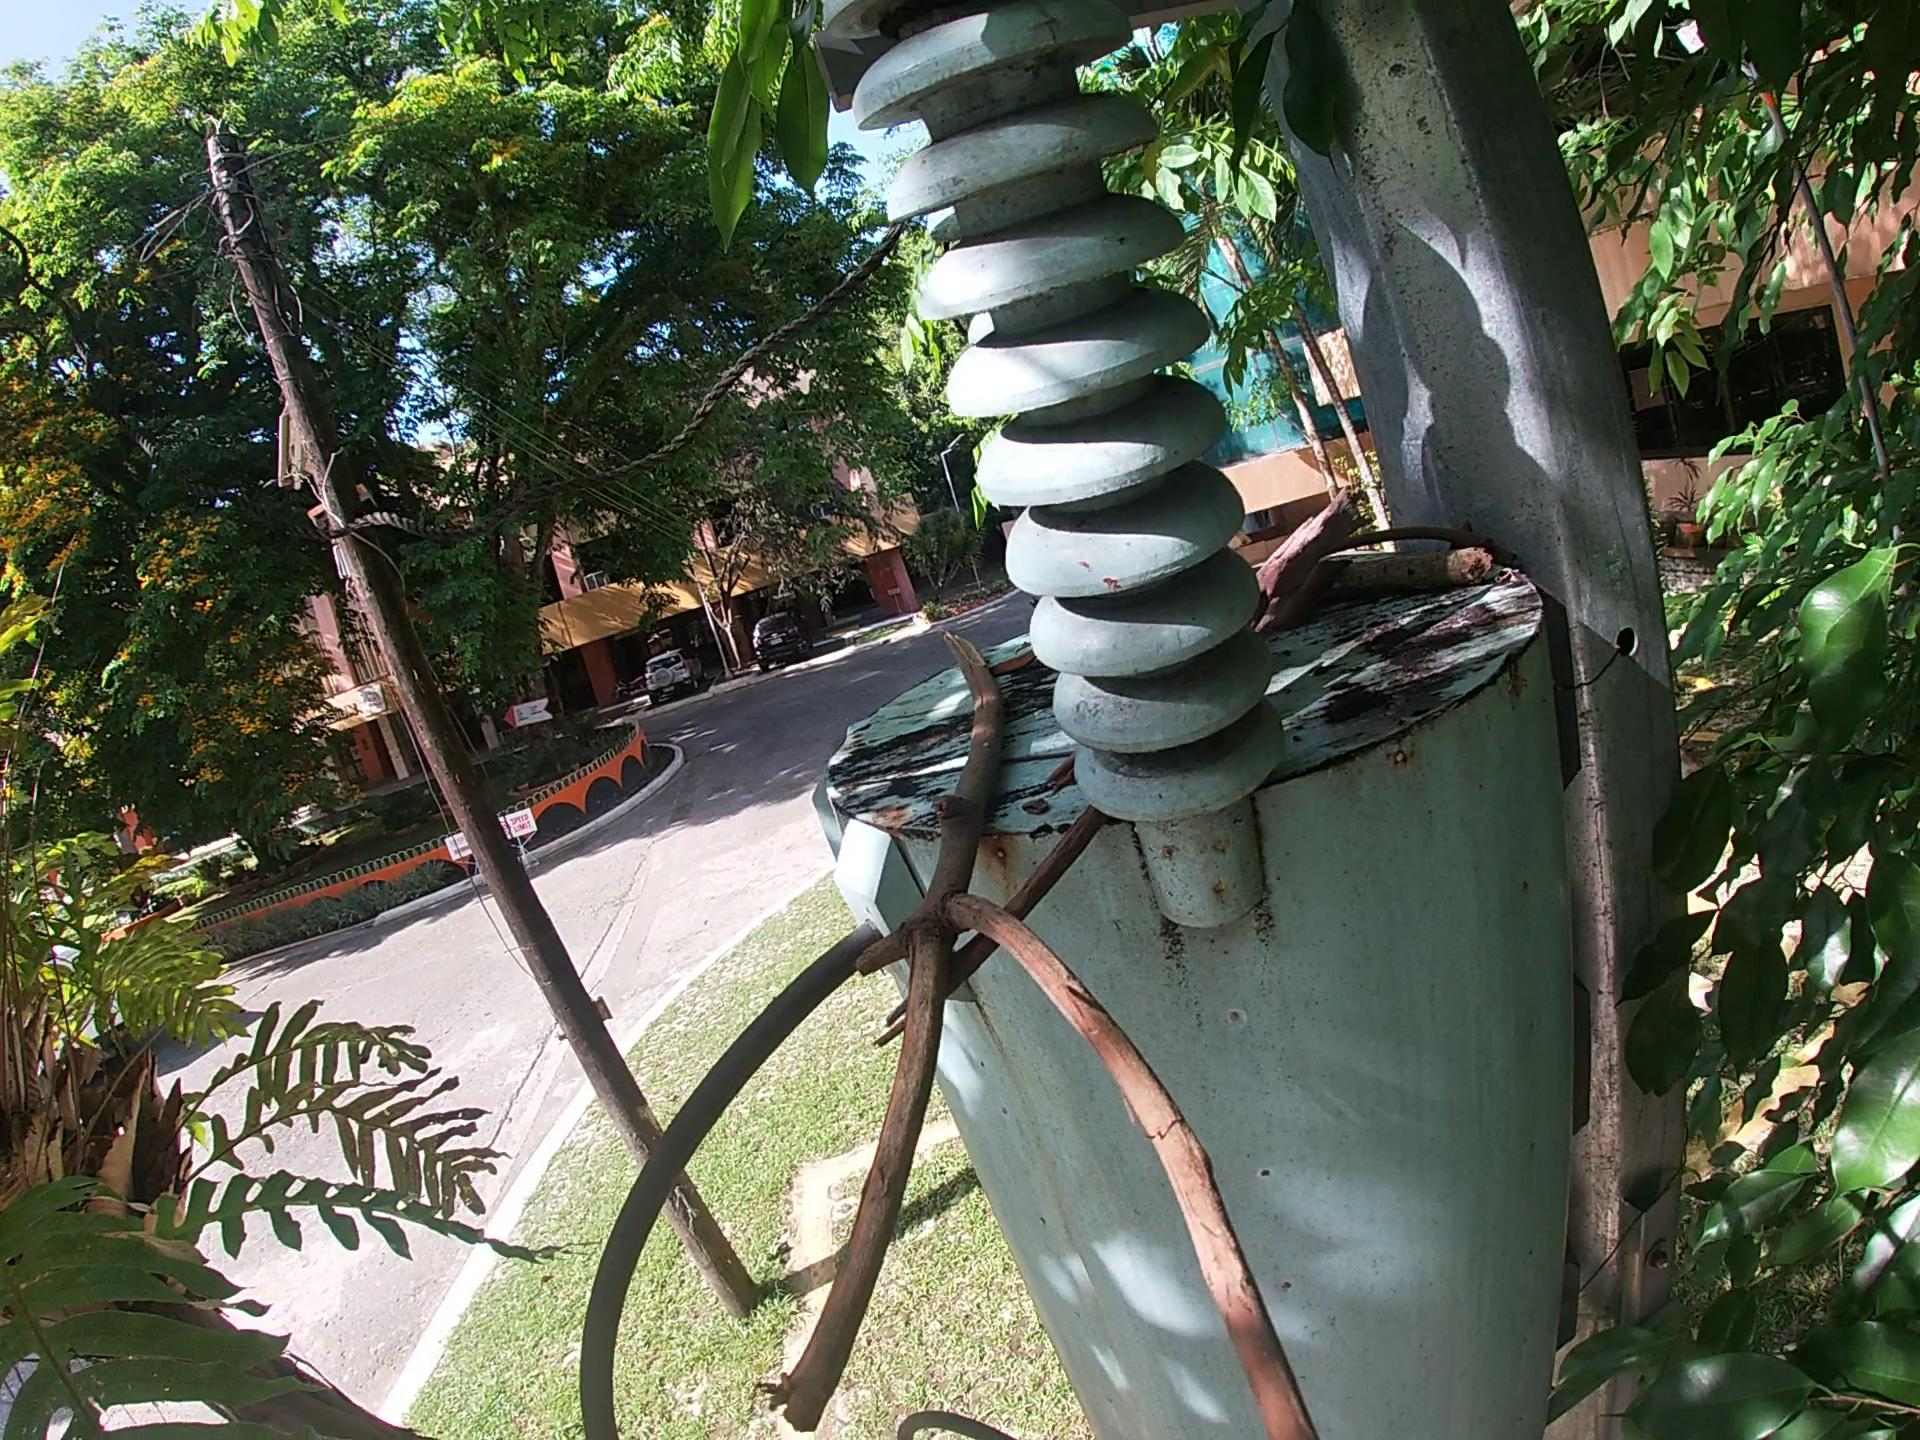leaf: (1258, 555, 1350, 632)
mahogany fruit: (977, 647, 1046, 685)
tree branch: (751, 620, 1327, 1440), (860, 796, 1120, 1065), (1243, 481, 1392, 625), (1262, 545, 1509, 613), (1324, 523, 1509, 561)
